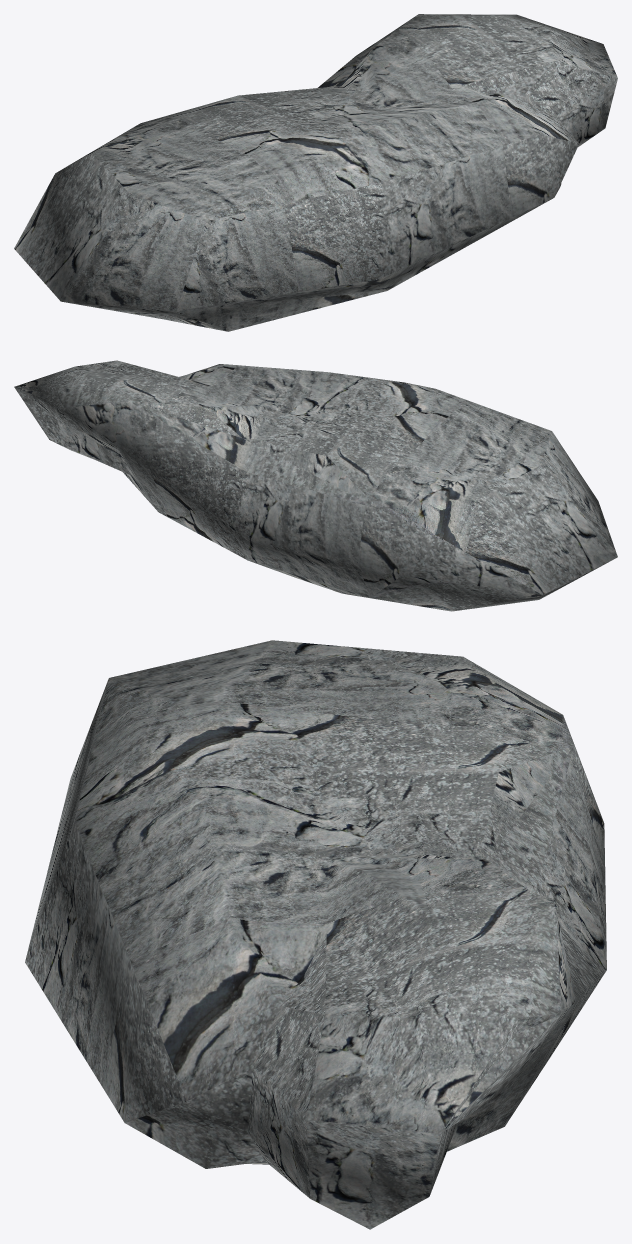
The model's file is BigStone01.DAE.
3 renders of one model, top to bottom at view 1: azimuth 30°, elevation 25°; view 2: azimuth 150°, elevation 25°; view 3: azimuth 270°, elevation 25°, orthographic. The views are drawn at different scales.
Visible parts, largest first — view 1: BigStoneOne256, BigStoneOne128; view 2: BigStoneOne256, BigStoneOne128; view 3: BigStoneOne256, BigStoneOne128.
Boxes of the visible parts, box(x1,y1,x2,y2) form: BigStoneOne256: box(14, 14, 617, 331); BigStoneOne128: box(93, 48, 517, 331); BigStoneOne256: box(14, 360, 617, 611); BigStoneOne128: box(14, 387, 551, 560); BigStoneOne256: box(25, 640, 606, 1229); BigStoneOne128: box(109, 640, 605, 1164).
Size of what is drawn, in the model's own units: 5.2 by 2.36 by 1.49.
